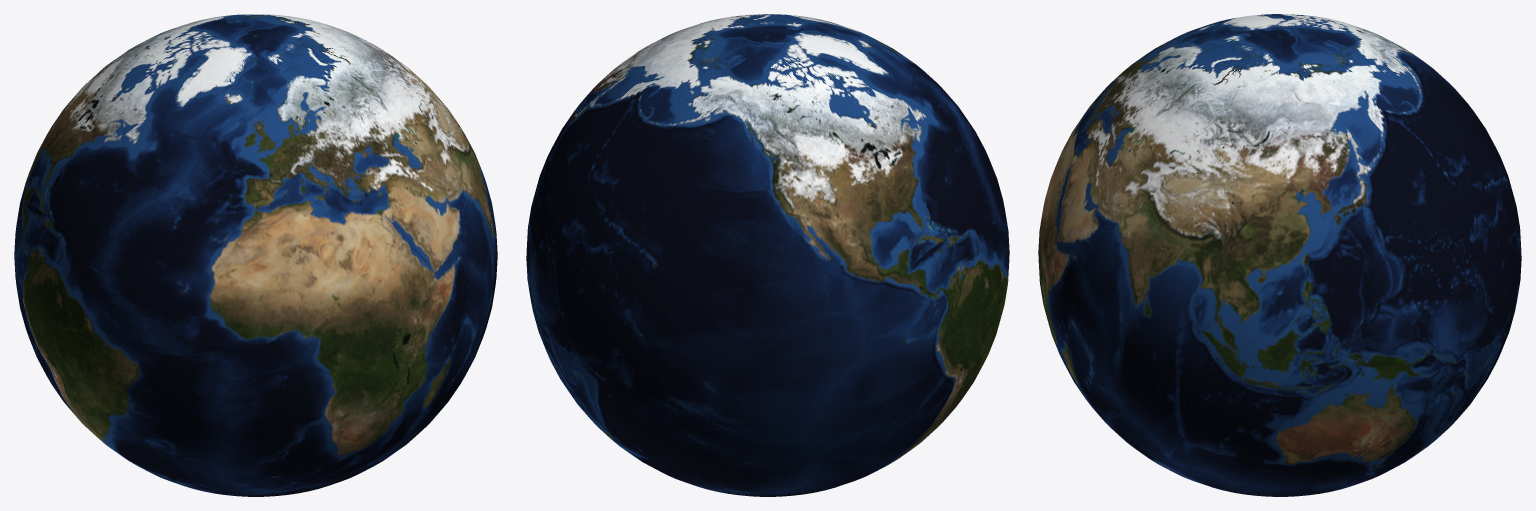
The model's file is Earth.glb.
3 renders of one model, left to right at view 1: azimuth 30°, elevation 25°; view 2: azimuth 150°, elevation 25°; view 3: azimuth 270°, elevation 25°, orthographic.
Visible parts, largest first — view 1: frame_0; view 2: frame_0; view 3: frame_0.
Part boxes in pixels (left/top/right/bottom): frame_0: left=14, top=14, right=497, bottom=496; frame_0: left=526, top=14, right=1009, bottom=496; frame_0: left=1038, top=14, right=1521, bottom=496.
Bounding box in the file's own units: 2.52 × 2.52 × 2.52.
Materials: 12 (12 with a texture image).
